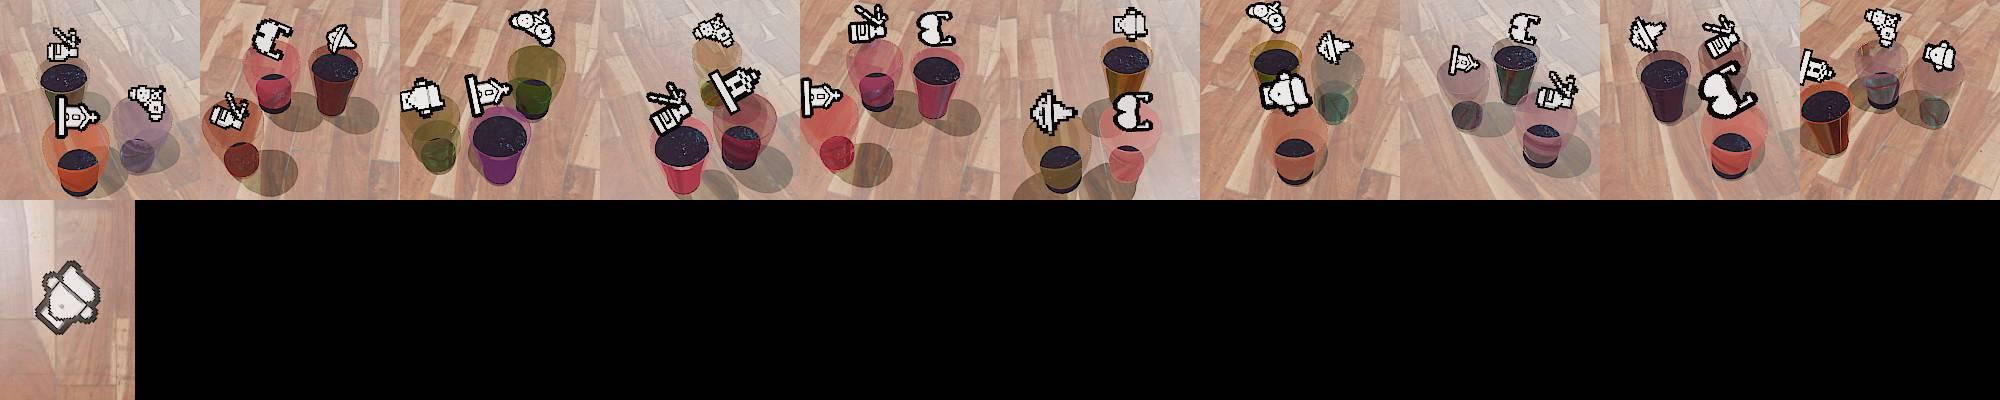icon: (34, 261, 103, 338), (1699, 62, 1759, 120), (704, 64, 763, 116), (647, 80, 695, 136), (1261, 70, 1315, 116), (1028, 88, 1078, 136), (464, 71, 515, 116), (54, 94, 101, 139), (250, 18, 296, 61), (801, 75, 844, 120), (401, 76, 446, 118), (509, 8, 556, 48), (1536, 68, 1579, 111), (1702, 13, 1741, 60), (847, 3, 889, 45), (1112, 90, 1156, 131), (208, 90, 250, 130), (916, 9, 957, 48), (1864, 8, 1902, 50), (128, 84, 168, 122), (1800, 46, 1837, 85), (1628, 17, 1667, 54), (691, 13, 735, 46), (46, 25, 83, 64), (1246, 1, 1287, 36), (1111, 5, 1149, 41), (1316, 29, 1353, 65), (1921, 39, 1958, 74), (1509, 11, 1542, 45), (324, 23, 358, 54), (1449, 45, 1481, 76)
